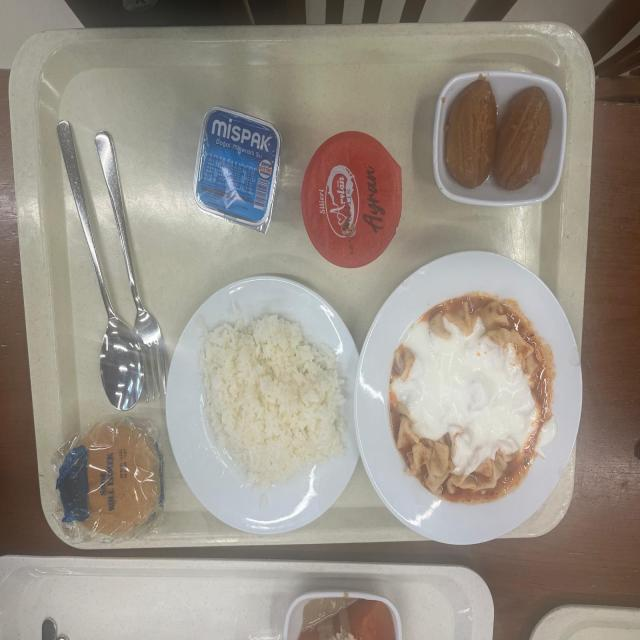ana_yemek: (361, 251, 584, 544), (164, 276, 348, 532)
yan_yemek: (433, 71, 569, 208), (284, 590, 392, 638)
